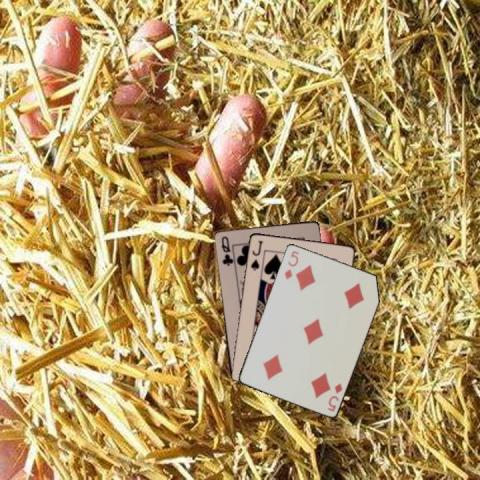5d: (281, 247, 300, 281), (325, 380, 343, 413)
Js: (248, 237, 265, 272)
Qc: (218, 233, 233, 267)
